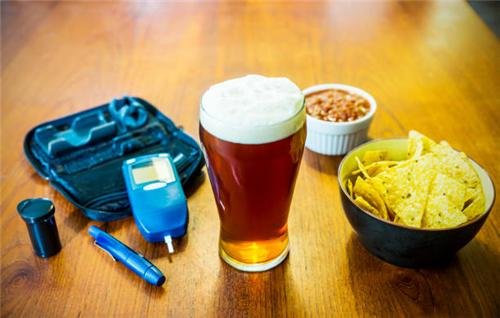alcohol: (198, 74, 307, 273)
